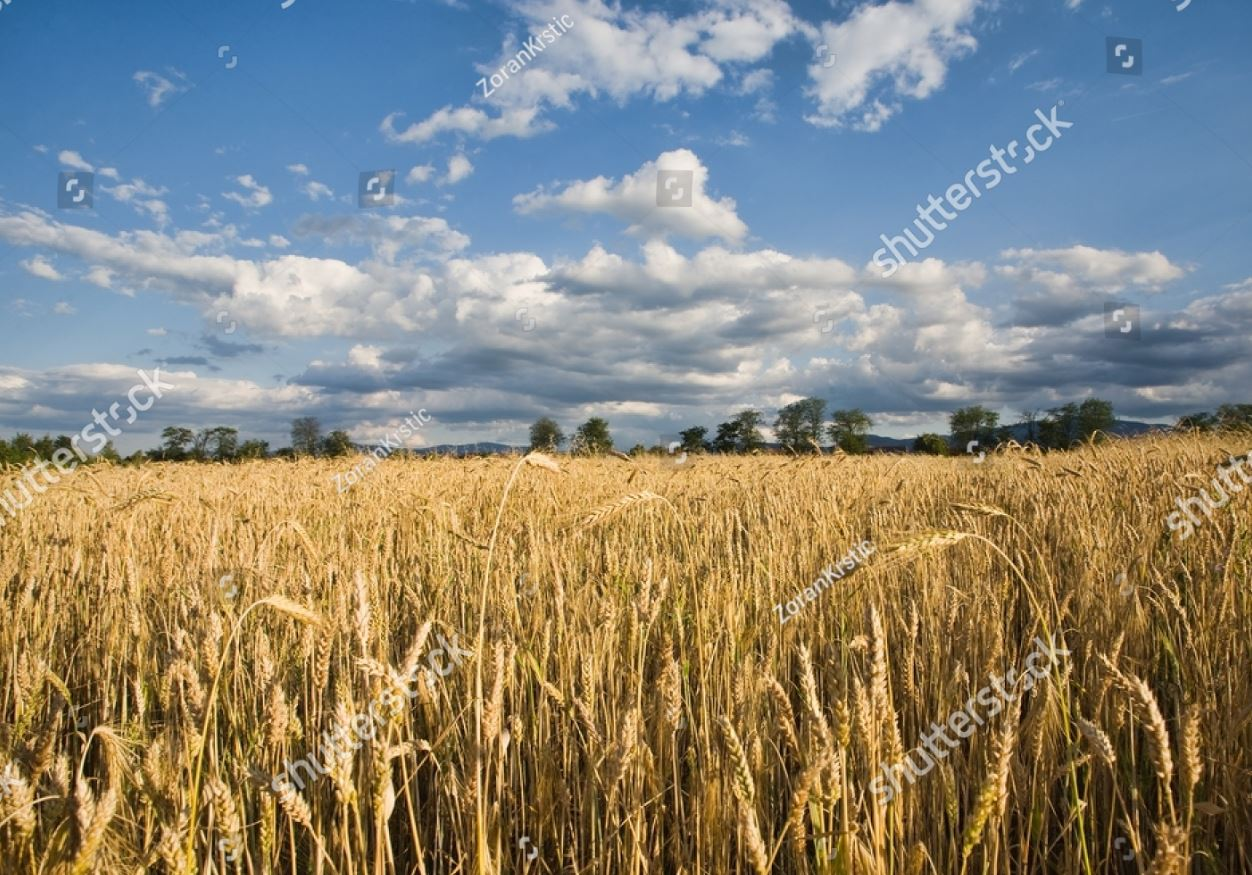Wheat: (151, 498, 776, 805)
